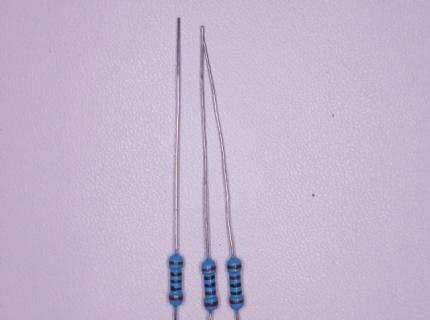Black band: (204, 282, 216, 287), (204, 275, 215, 280), (171, 286, 181, 291), (230, 291, 242, 295), (171, 272, 182, 276), (230, 283, 241, 287), (171, 280, 182, 283)
Brown band: (228, 264, 242, 269), (205, 301, 218, 306), (229, 275, 241, 280), (169, 261, 183, 265), (205, 290, 216, 295)
Red band: (202, 266, 216, 271), (230, 299, 244, 304), (169, 297, 182, 301)
